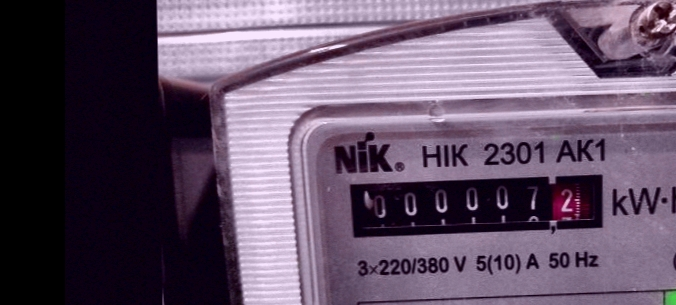0: (433, 187, 451, 215), (403, 190, 420, 218), (372, 193, 389, 220), (495, 183, 511, 211), (465, 185, 480, 212)
2: (560, 186, 576, 215)
7: (525, 184, 541, 213)
screen: (343, 166, 617, 243)
